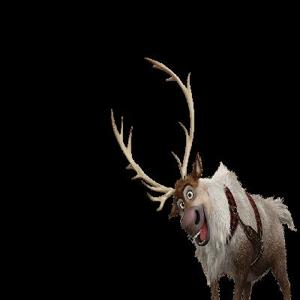sven: (103, 47, 295, 296)
